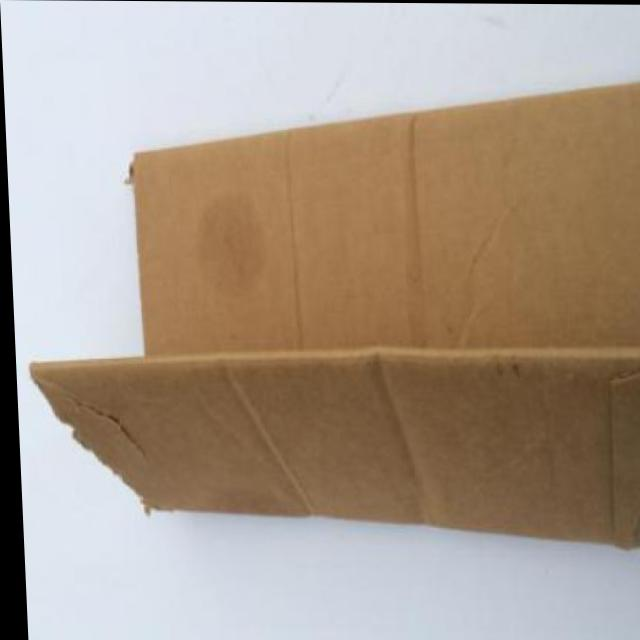box: (11, 58, 640, 563)
